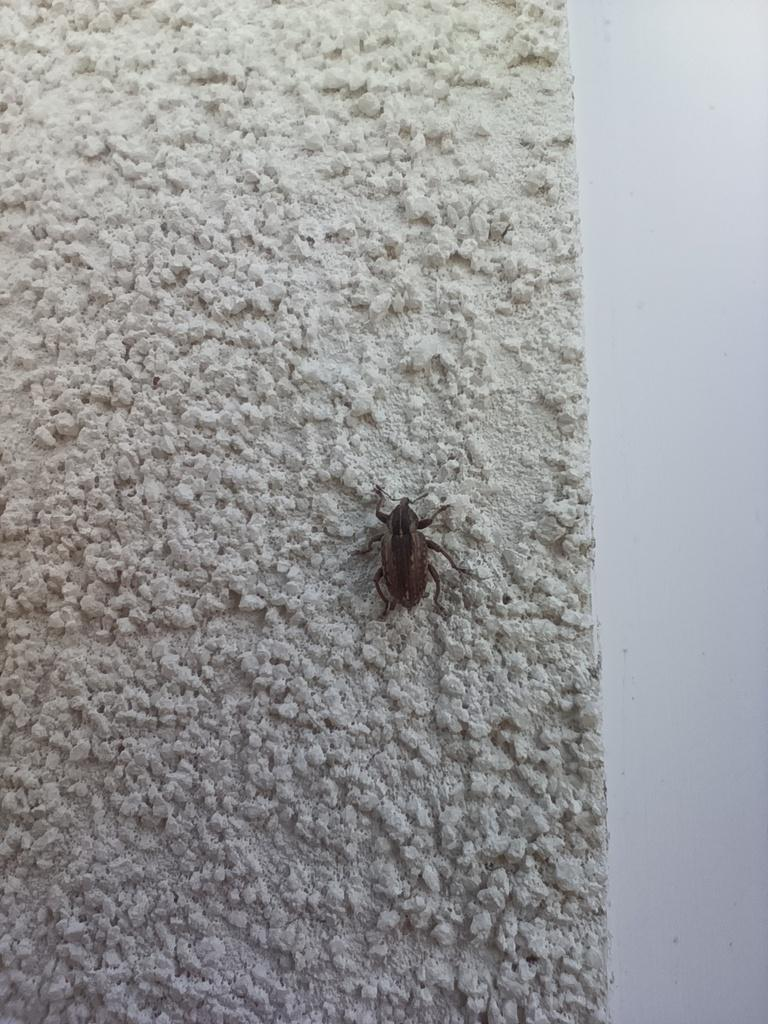weevils: (321, 456, 491, 653)
